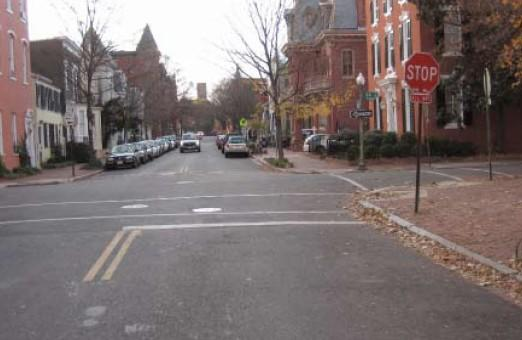Pole: (413, 103, 423, 212), (486, 106, 492, 181), (359, 120, 364, 163)
Sign: (403, 52, 440, 92)
